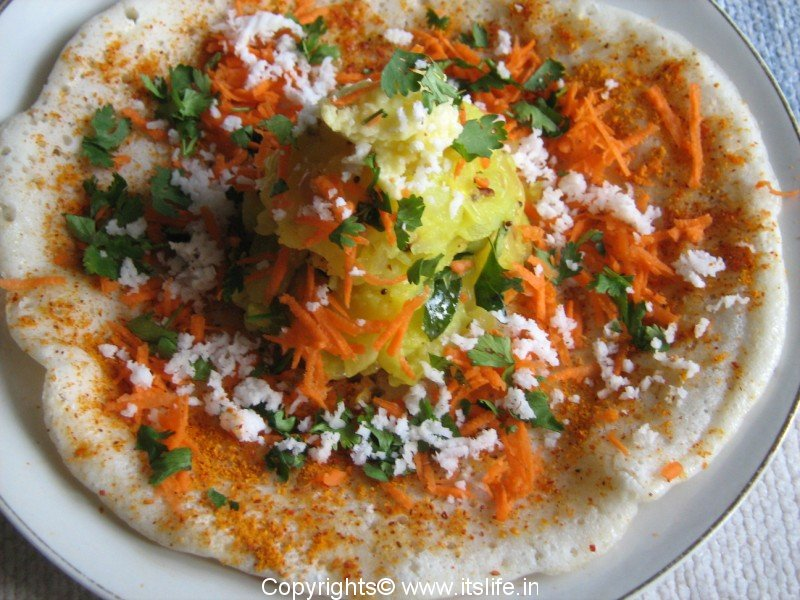dosa: (3, 3, 788, 596)
